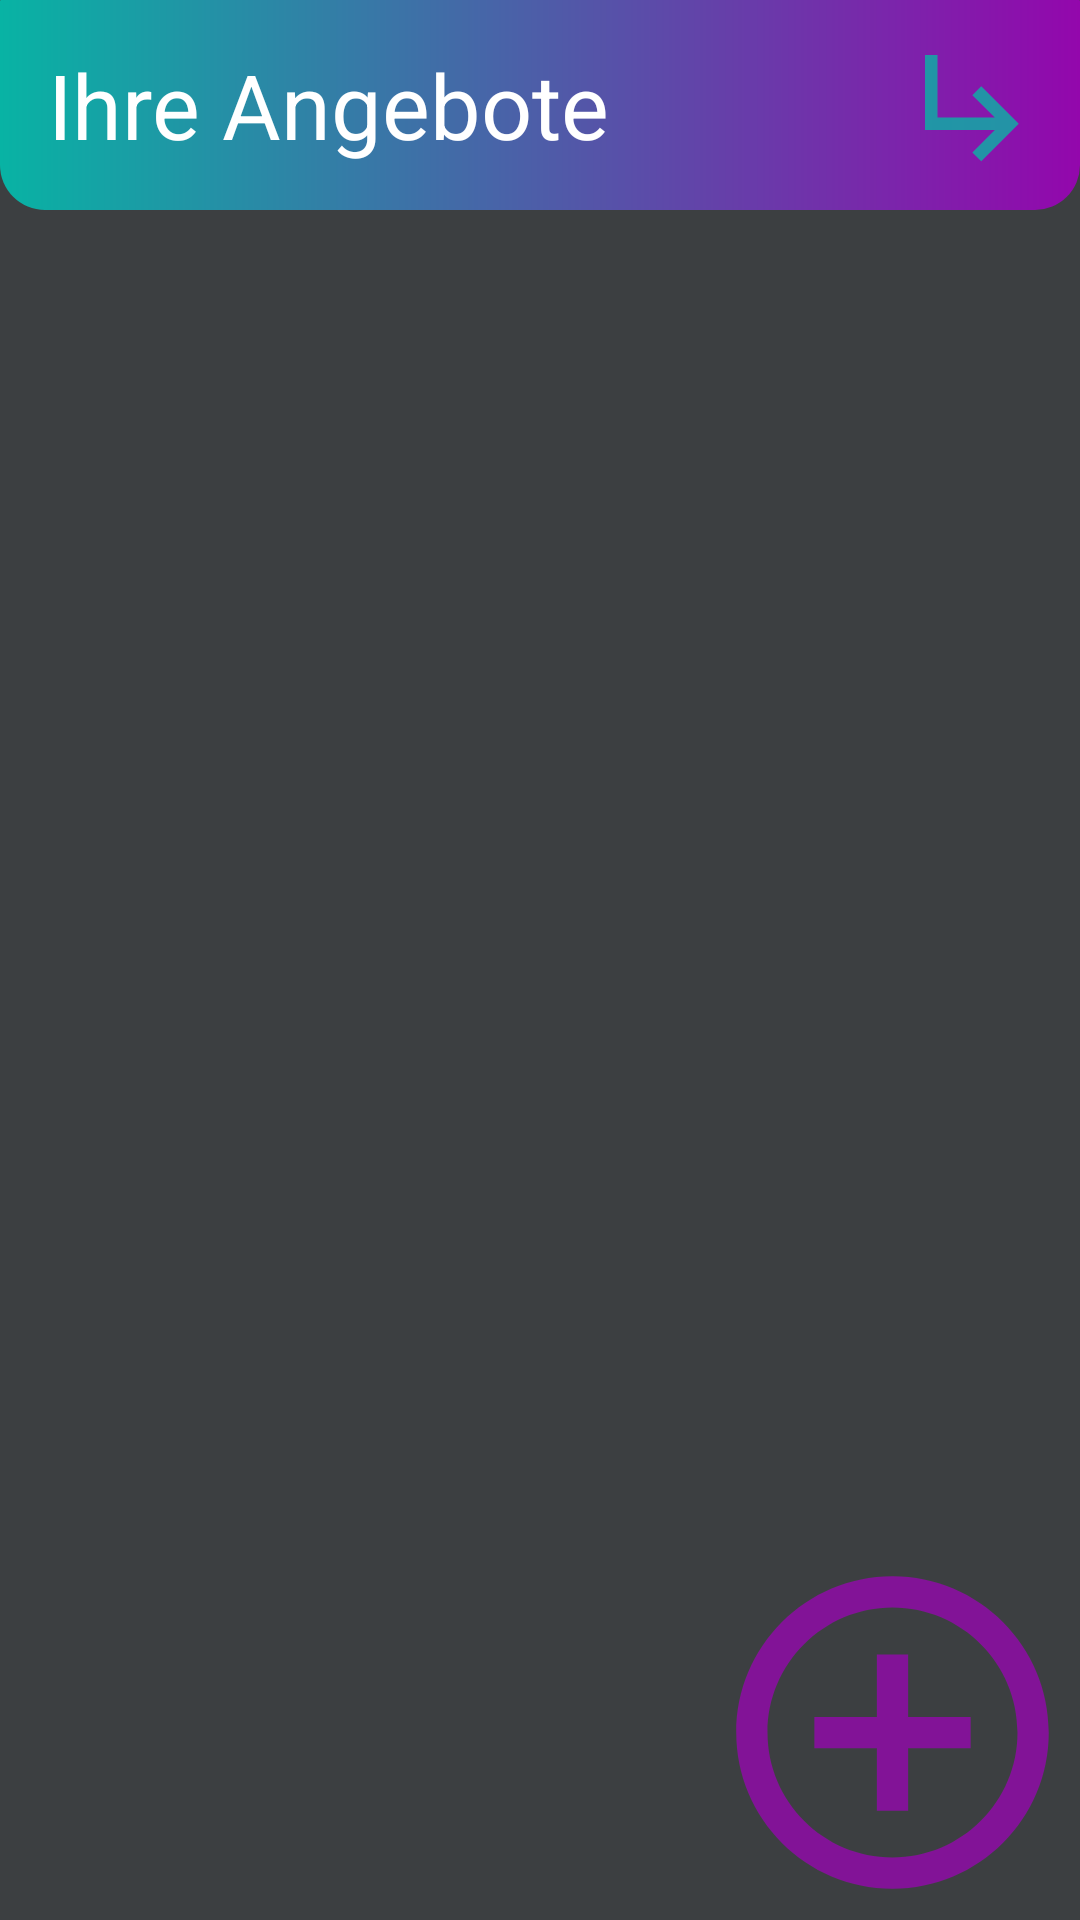

Named icons in this screenshot (1080w x 1920h) and their centers, [x,y]:
addcircle: [892,1732]
